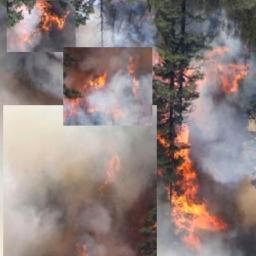Heavy smoke: (0, 0, 256, 256)
Small fire: (25, 2, 256, 256)
